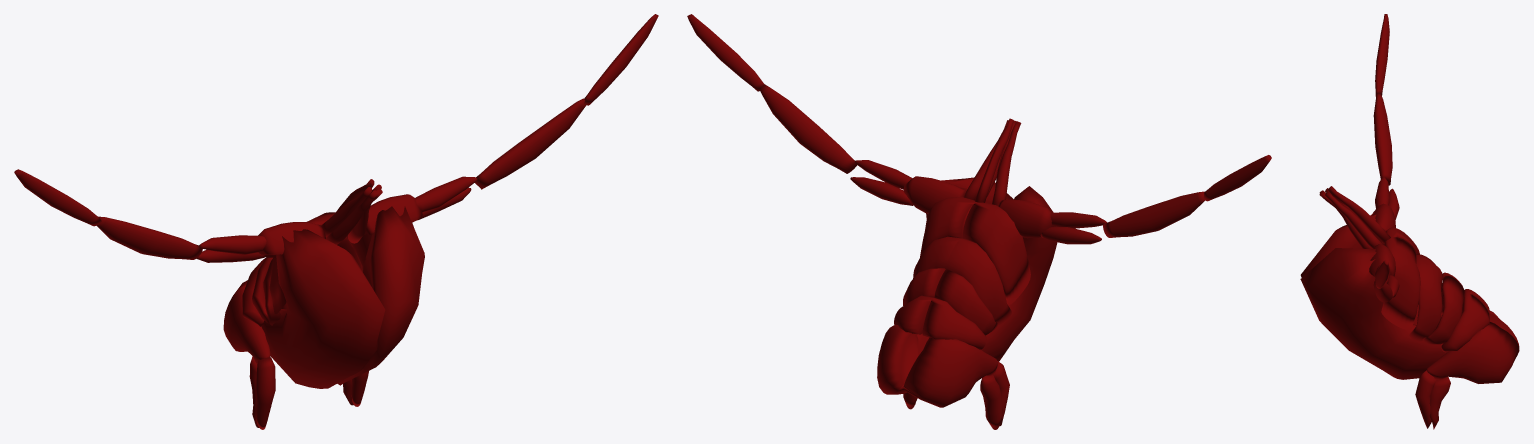
File: Muscles.fbx
3 renders of one model, left to right at view 1: azimuth 30°, elevation 25°; view 2: azimuth 150°, elevation 25°; view 3: azimuth 270°, elevation 25°, orthographic. The views are drawn at different scales.
Parts seen in each view (by area): view 1: Muce, pCylinder22, pCylinder23, pCylinder13, pCylinder14, pCylinder12, pCylinder10, pCylinder20, pCylinder15, pCylinder18, pCylinder19, pCylinder16 (+2 smaller); view 2: pCylinder12, pCylinder15, pCylinder22, Muce, pCylinder16, pCylinder21, pCylinder17, pCylinder13, pCylinder23, pCylinder18, pCylinder14, pCylinder19 (+2 smaller); view 3: Muce, pCylinder12, pCylinder15, pCylinder16, pCylinder21, pCylinder22, pCylinder17, pCylinder23, pCylinder13, pCylinder25, pCylinder19, pCylinder10 (+4 smaller).
Boxes of the visible parts, bbox=[...] form: Muce: bbox=[261, 206, 424, 388]; pCylinder22: bbox=[97, 98, 586, 259]; pCylinder23: bbox=[14, 14, 658, 226]; pCylinder13: bbox=[258, 194, 422, 257]; pCylinder14: bbox=[199, 176, 477, 254]; pCylinder12: bbox=[223, 280, 270, 363]; pCylinder10: bbox=[255, 357, 368, 429]; pCylinder20: bbox=[326, 189, 382, 244]; pCylinder15: bbox=[269, 212, 372, 314]; pCylinder18: bbox=[196, 187, 471, 262]; pCylinder19: bbox=[321, 184, 381, 237]; pCylinder16: bbox=[263, 237, 362, 325]; pCylinder12: bbox=[877, 325, 997, 407]; pCylinder15: bbox=[920, 196, 1030, 305]; pCylinder22: bbox=[760, 84, 1204, 237]; Muce: bbox=[917, 177, 1057, 361]; pCylinder16: bbox=[913, 236, 1011, 325]; pCylinder21: bbox=[894, 295, 986, 349]; pCylinder17: bbox=[903, 268, 998, 335]; pCylinder13: bbox=[903, 176, 1055, 238]; pCylinder23: bbox=[687, 14, 1271, 201]; pCylinder18: bbox=[850, 177, 1101, 244]; pCylinder14: bbox=[855, 160, 1106, 228]; pCylinder19: bbox=[964, 120, 1020, 205]; Muce: bbox=[1300, 212, 1448, 379]; pCylinder12: bbox=[1427, 310, 1519, 383]; pCylinder15: bbox=[1381, 227, 1420, 329]; pCylinder16: bbox=[1409, 254, 1442, 342]; pCylinder21: bbox=[1441, 289, 1489, 352]; pCylinder22: bbox=[1373, 93, 1392, 302]; pCylinder17: bbox=[1422, 272, 1464, 344]; pCylinder23: bbox=[1375, 14, 1389, 288]; pCylinder13: bbox=[1369, 203, 1395, 276]; pCylinder25: bbox=[1328, 186, 1390, 243]; pCylinder19: bbox=[1325, 188, 1384, 248]; pCylinder10: bbox=[1415, 370, 1436, 428].
Bounding box in the file's own units: 7.74 × 3.98 × 2.88.
